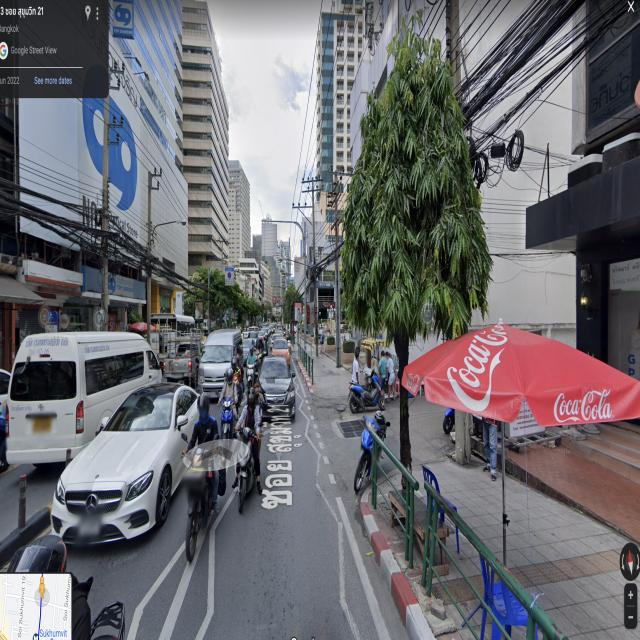tree: (343, 21, 497, 549), (175, 252, 268, 336), (278, 276, 304, 361)
